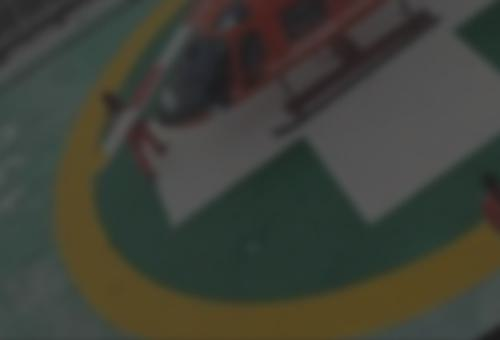Apron: (49, 2, 497, 340)
